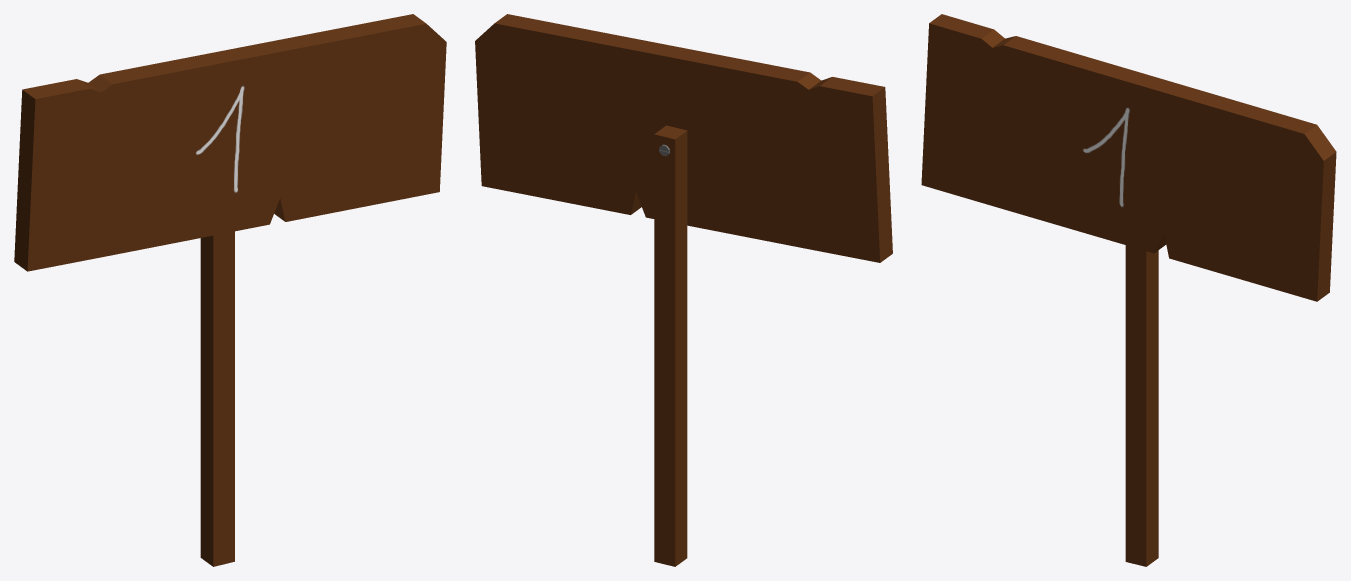
File: sign1_1.glb
3 views of the same model, side by side, from view 1: azimuth 30°, elevation 25°; view 2: azimuth 150°, elevation 25°; view 3: azimuth 330°, elevation 25° (orthographic). The views are drawn at different scales.
Parts seen in each view (by area): view 1: Sign 1; view 2: Sign 1; view 3: Sign 1.
Part boxes in pixels (x1,y1,x2,y2): Sign 1: [14, 14, 446, 566]; Sign 1: [475, 14, 892, 566]; Sign 1: [921, 14, 1336, 566].
Bounding box in the file's own units: 2.03 × 2.43 × 0.228.
2 materials, 1 textured.
